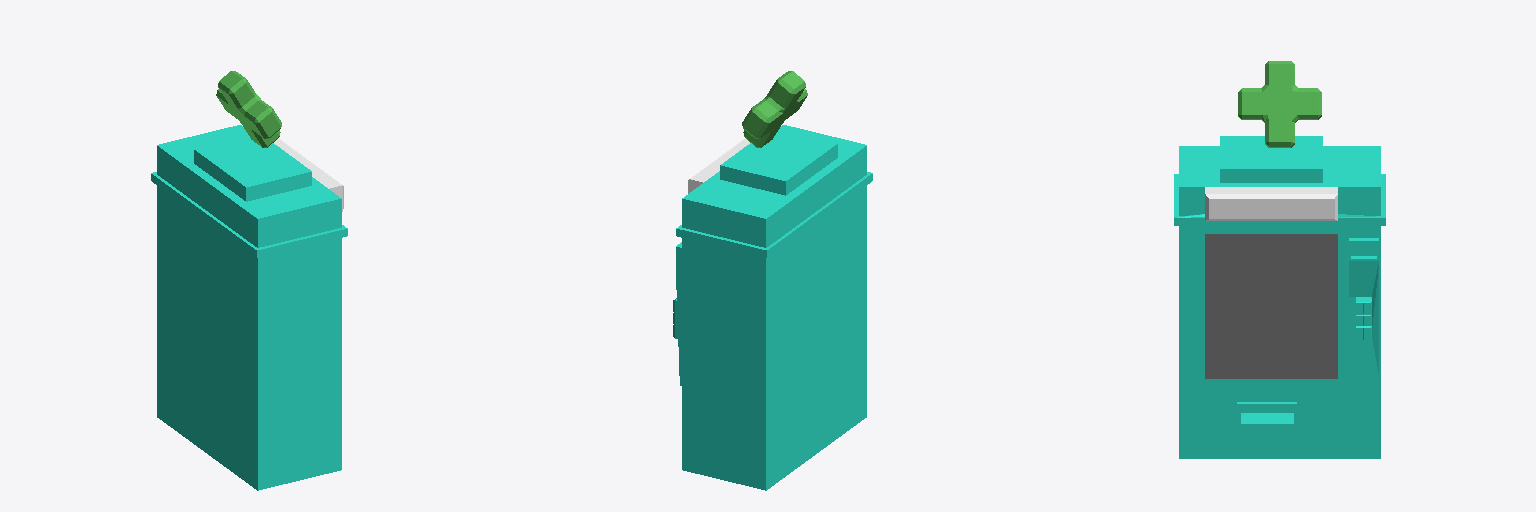
The model's file is healthmachine.obj.
3 renders of one model, left to right at view 1: azimuth 30°, elevation 25°; view 2: azimuth 150°, elevation 25°; view 3: azimuth 270°, elevation 25°, orthographic.
Parts seen in each view (by area): view 1: mainmachine_low1, healthicon_low, signlight_low; view 2: mainmachine_low1, healthicon_low, signlight_low; view 3: mainmachine_low1, machineglass_low, signlight_low, healthicon_low.
Part boxes in pixels (x1,y1,x2,y2): mainmachine_low1: (151, 125, 347, 490); healthicon_low: (216, 71, 281, 147); signlight_low: (274, 138, 343, 211); mainmachine_low1: (673, 125, 872, 490); healthicon_low: (742, 71, 807, 147); signlight_low: (688, 138, 749, 193); mainmachine_low1: (1174, 136, 1385, 458); machineglass_low: (1205, 234, 1337, 378); signlight_low: (1205, 187, 1337, 220); healthicon_low: (1238, 61, 1321, 147).
Bounding box in the file's own units: 3.85 × 13.1 × 6.78.